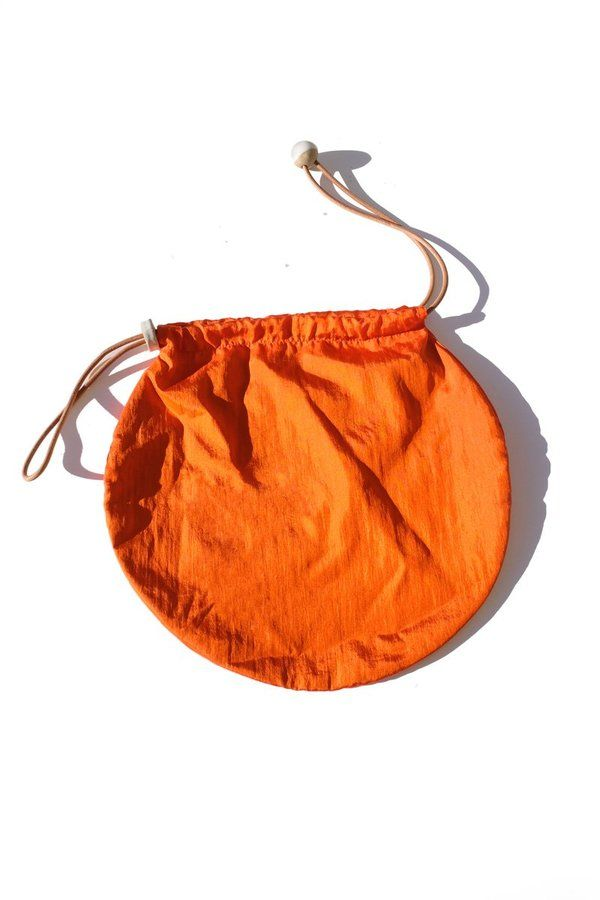nylon: (104, 306, 510, 691)
